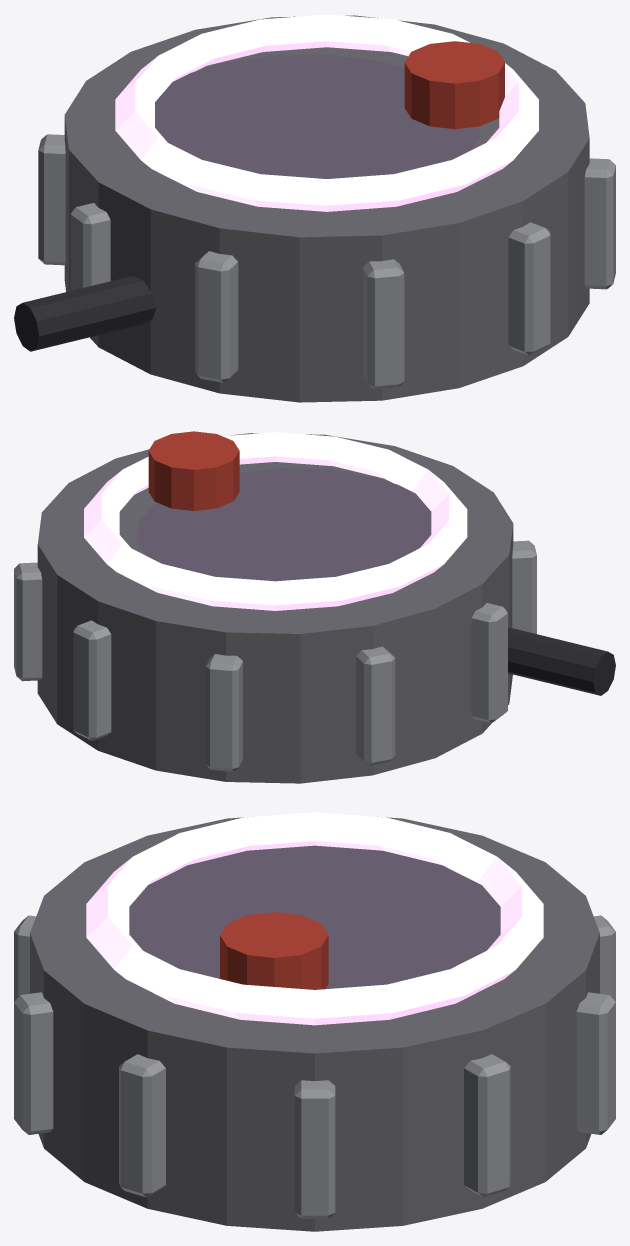
Rendered from inverter.glb.
3 renders of one model, top to bottom at view 1: azimuth 30°, elevation 25°; view 2: azimuth 150°, elevation 25°; view 3: azimuth 270°, elevation 25°, orthographic. The views are drawn at different scales.
Visible parts, largest first — view 1: inverter; view 2: inverter; view 3: inverter.
Part boxes in pixels (bbox=[...]): inverter: bbox=[14, 14, 615, 402]; inverter: bbox=[14, 431, 615, 783]; inverter: bbox=[14, 812, 615, 1231].
Bounding box in the file's own units: 0.107 × 0.038 × 0.0887.
